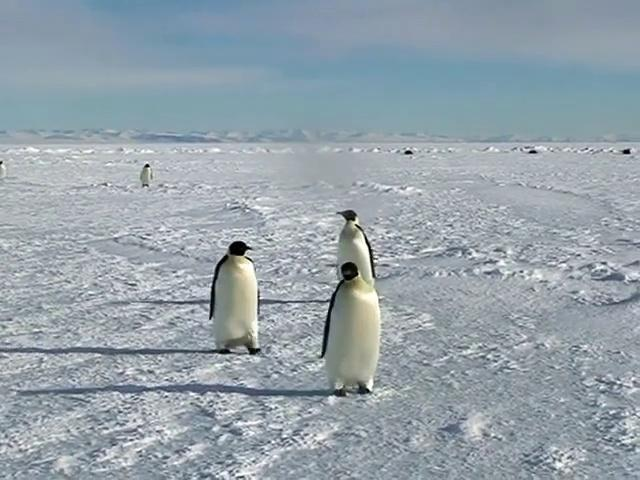animal: (337, 211, 375, 287)
